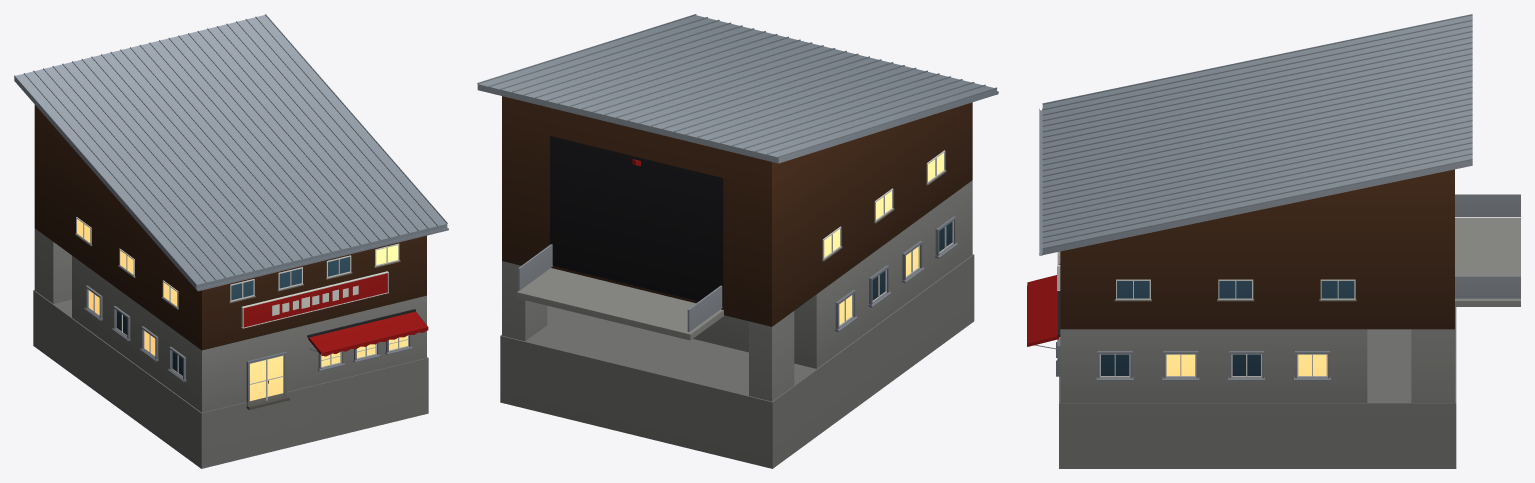
Rendered from CableCar_Station_Low.fbx.
3 views of the same model, side by side, from view 1: azimuth 30°, elevation 25°; view 2: azimuth 150°, elevation 25°; view 3: azimuth 270°, elevation 25° (orthographic). The views are drawn at different scales.
Parts seen in each view (by area): view 1: CableCar_Station_Low_LOD0; view 2: CableCar_Station_Low_LOD0; view 3: CableCar_Station_Low_LOD0.
Part boxes in pixels (x1=…): CableCar_Station_Low_LOD0: x1=14, y1=14, x2=448, y2=468; CableCar_Station_Low_LOD0: x1=477, y1=14, x2=998, y2=468; CableCar_Station_Low_LOD0: x1=1027, y1=14, x2=1520, y2=468.
Size of what is drawn, in the model's own units: 15.65 by 15.95 by 22.51.
1 material, 1 textured.
